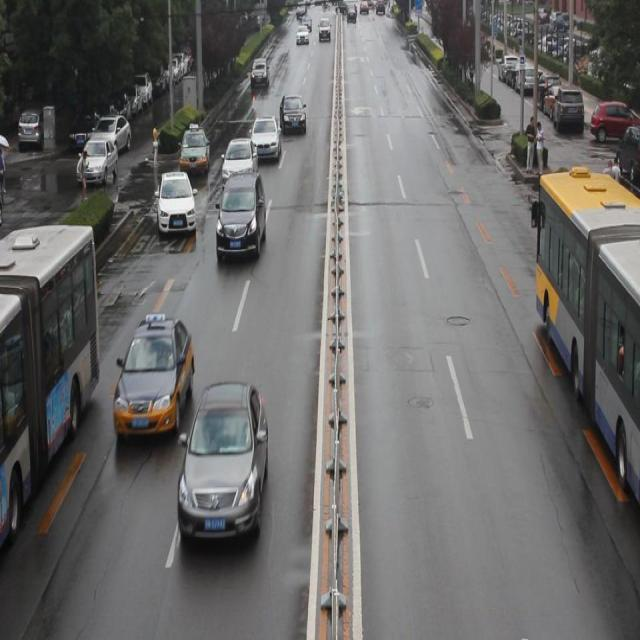car: (179, 383, 265, 543), (115, 318, 192, 441), (215, 174, 264, 262), (157, 170, 196, 238), (221, 134, 257, 192), (180, 125, 210, 178), (248, 115, 280, 162), (278, 96, 304, 139)
van: (530, 177, 640, 508), (1, 223, 99, 551)
